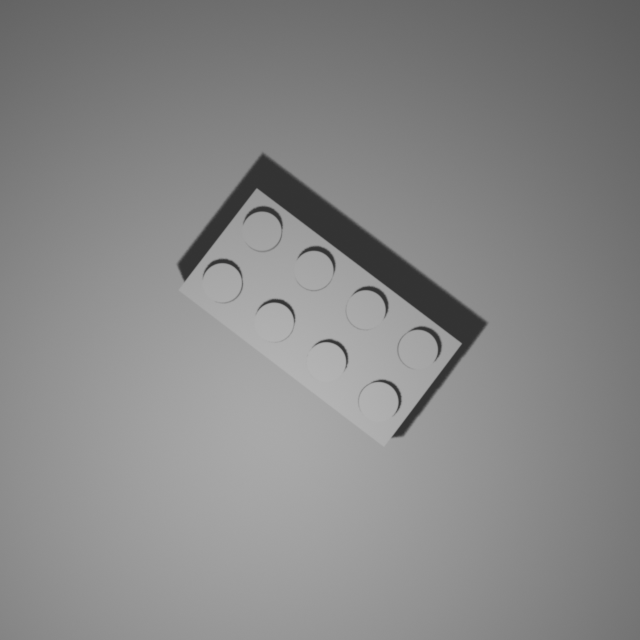lego_2x4: (176, 186, 464, 448)
